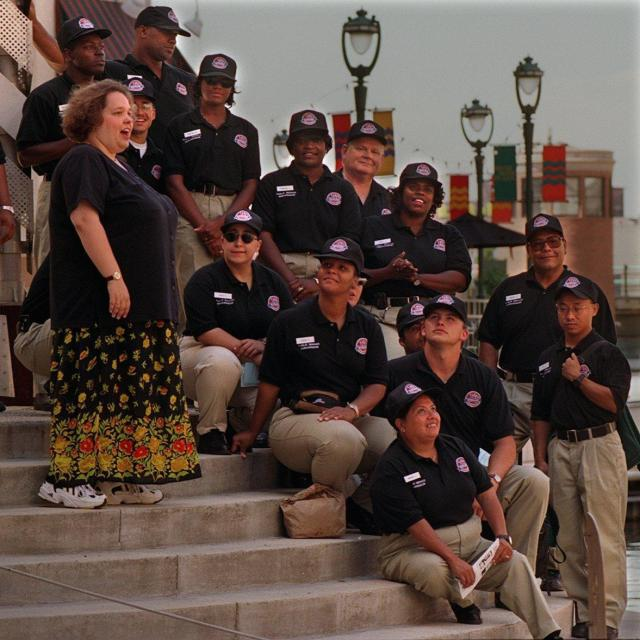body: (32, 75, 206, 516), (360, 376, 574, 640), (476, 212, 618, 592), (369, 291, 552, 578), (228, 233, 398, 499), (522, 271, 632, 639), (177, 205, 296, 457), (161, 51, 263, 337), (14, 16, 114, 274), (250, 109, 362, 305), (363, 161, 473, 309), (96, 5, 202, 134), (330, 119, 399, 218), (116, 74, 171, 197), (15, 245, 52, 410), (390, 298, 437, 357)
